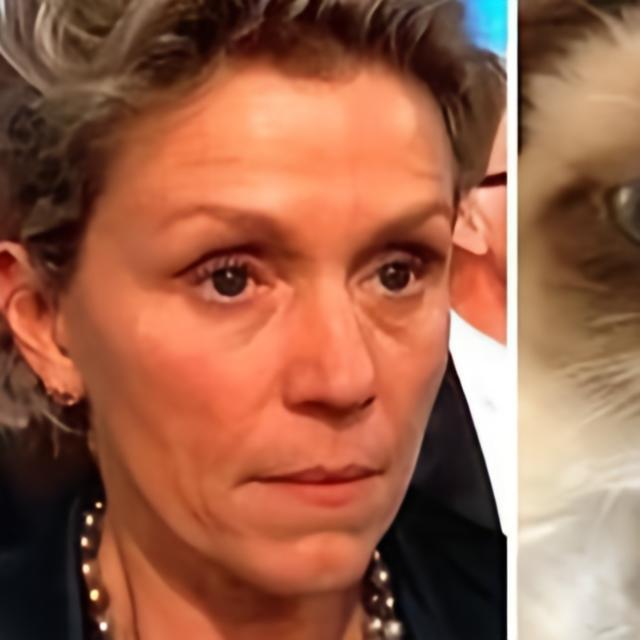surprise: (86, 51, 457, 600)
